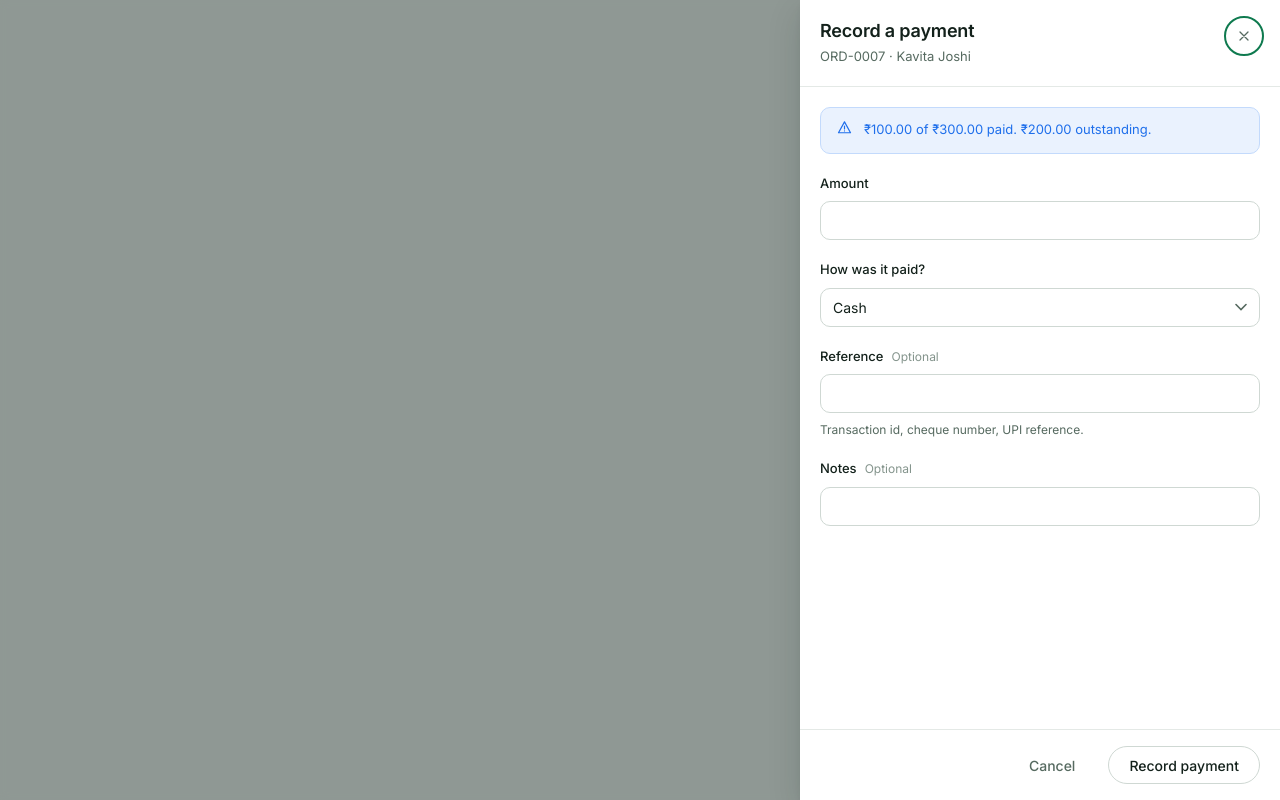
it: OrderPaymentDrawer › refuses an overpayment before a round trip, naming the outstanding amount
This screenshot has width=1280, height=800.
Type "500" into the field labelled "Amount" at {"x": 1040, "y": 220}, box [820,201,1260,240]
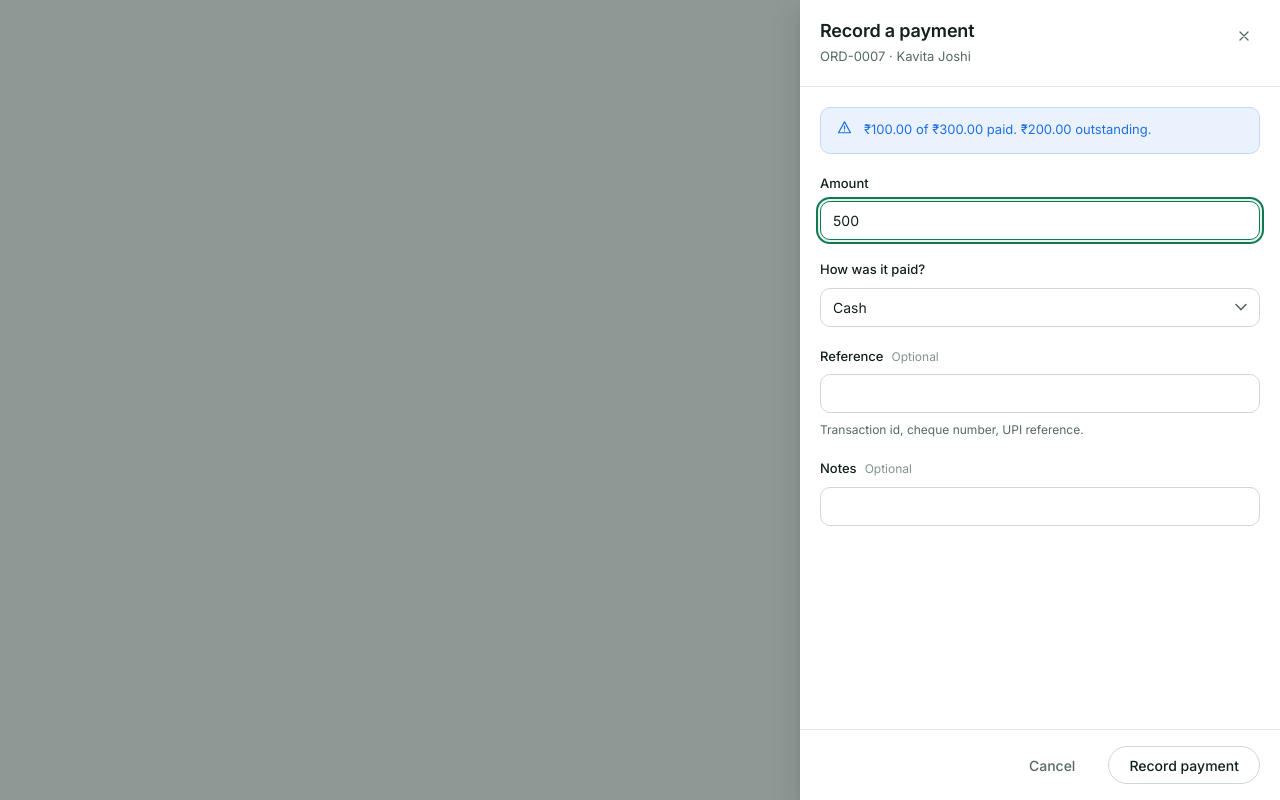
Click the button "Record payment" at {"x": 1184, "y": 765}, box [1108,746,1260,784]
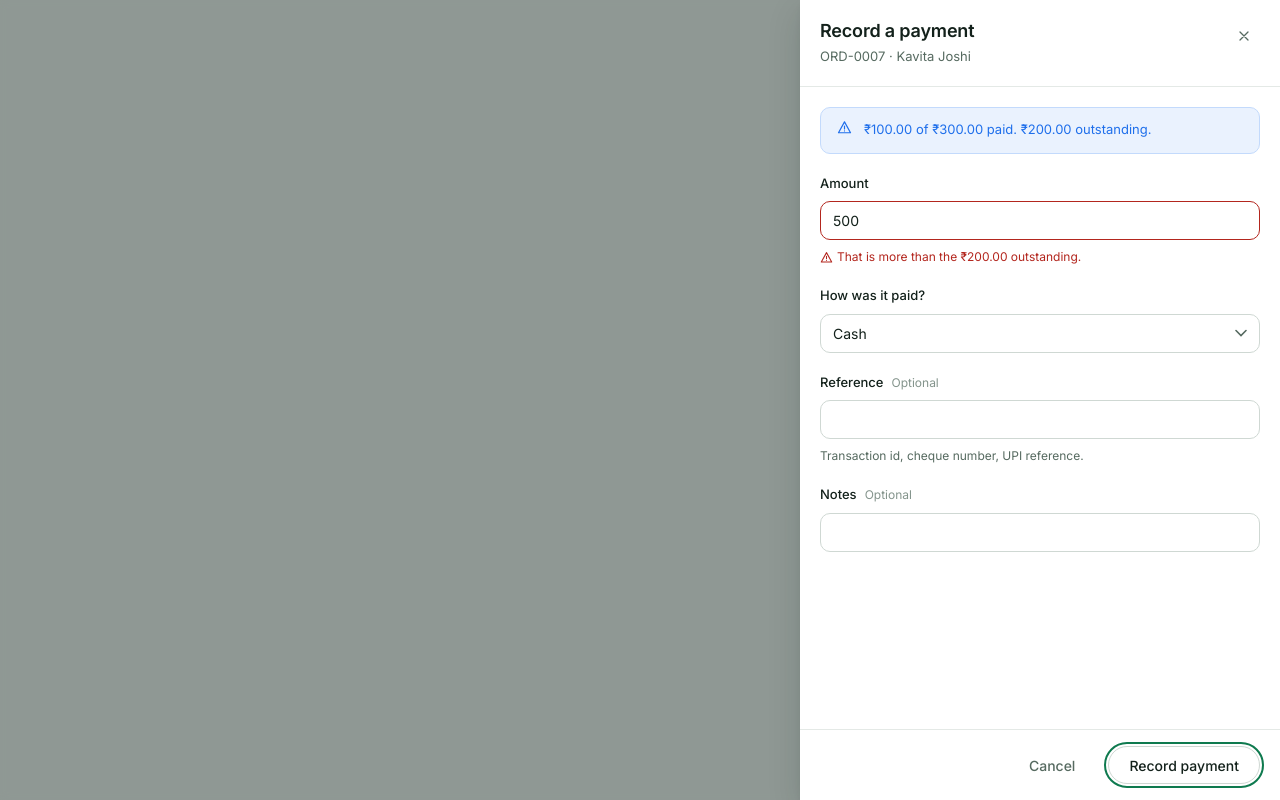
Expected: the text "That is more than the ₹200.00 outstanding." is shown, [820,249,1081,264]
